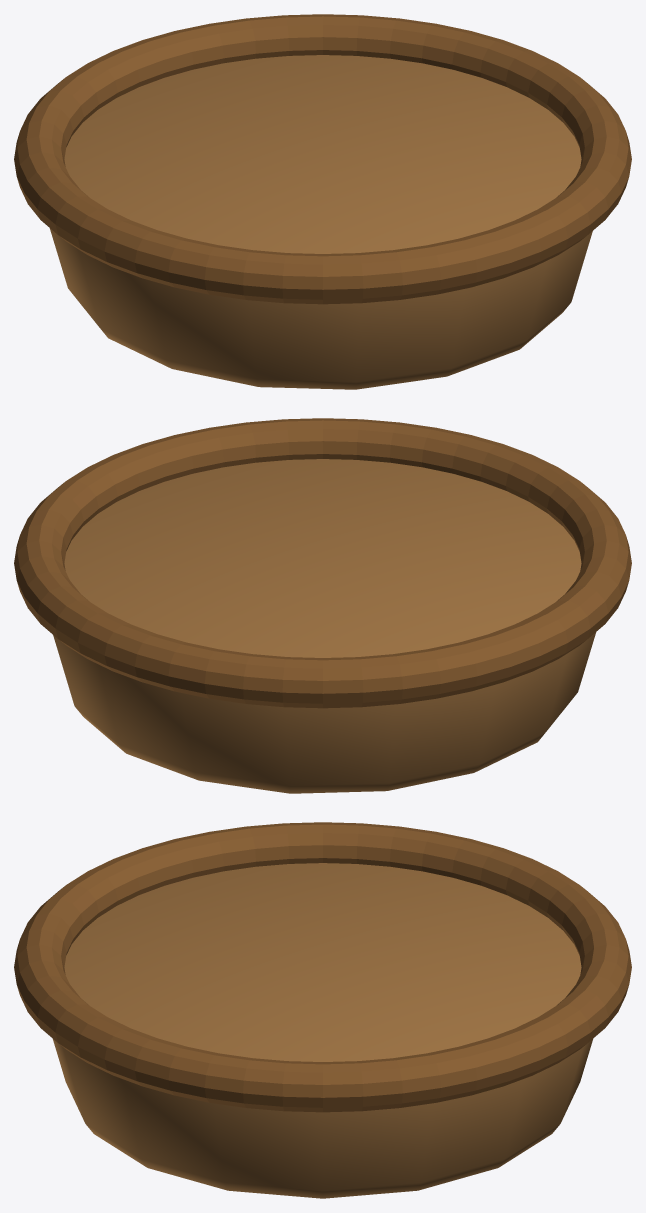
The model's file is food_basket.glb.
3 renders of one model, top to bottom at view 1: azimuth 30°, elevation 25°; view 2: azimuth 150°, elevation 25°; view 3: azimuth 270°, elevation 25°, orthographic.
Parts seen in each view (by area): view 1: food_basket; view 2: food_basket; view 3: food_basket.
Part boxes in pixels (x1,y1,x2,y2): food_basket: [14, 14, 631, 389]; food_basket: [14, 418, 631, 793]; food_basket: [14, 822, 631, 1198].
Bounding box in the file's own units: 0.98 × 0.27 × 0.98.
